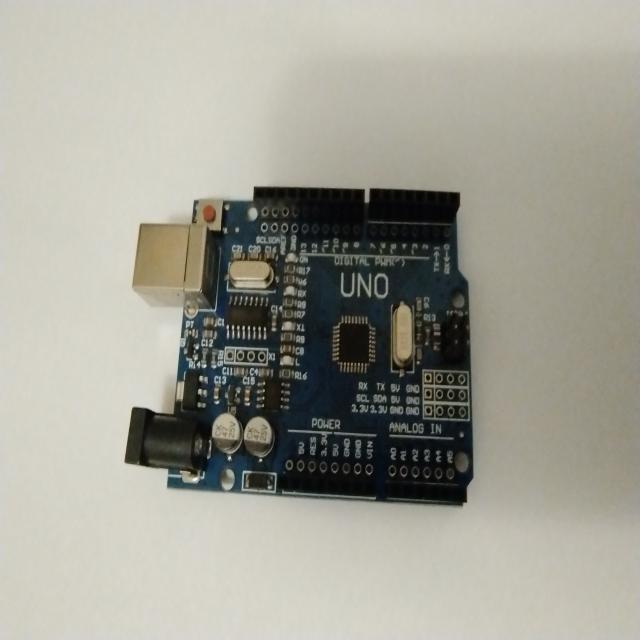arduino: (133, 186, 481, 512)
